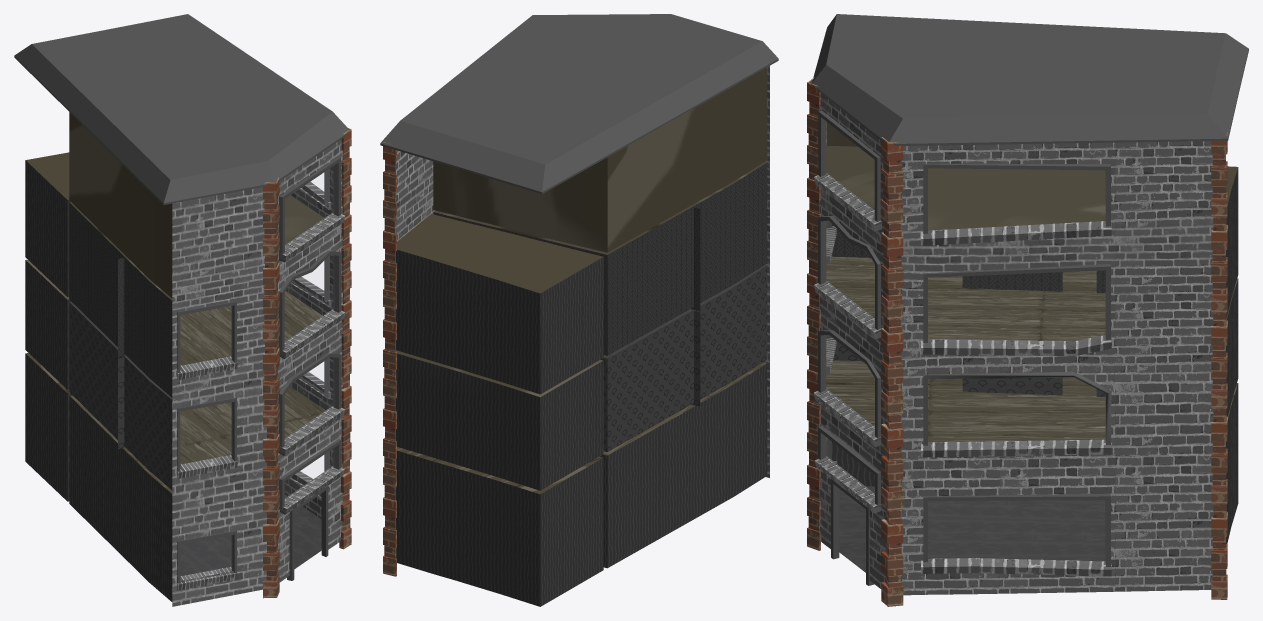
Rendered from Right Building.fbx.
3 views of the same model, side by side, from view 1: azimuth 30°, elevation 25°; view 2: azimuth 150°, elevation 25°; view 3: azimuth 270°, elevation 25° (orthographic). The views are drawn at different scales.
Visible parts, largest first — view 1: Right_Building_Front, Right_Floor_1, Right_Floor_3, Right_Floor_2, Right_Floor_4; view 2: Right_Building_Front, Right_Floor_3, Right_Floor_1, Right_Floor_2, Right_Floor_4; view 3: Right_Building_Front, Right_Floor_3, Right_Floor_2, Right_Floor_1, Right_Floor_4.
Part boxes in pixels (box(x1,y1,x2,y2)): Right_Building_Front: box(14, 14, 351, 606); Right_Floor_1: box(25, 353, 322, 601); Right_Floor_3: box(25, 152, 322, 397); Right_Floor_2: box(25, 259, 325, 490); Right_Floor_4: box(69, 112, 324, 300); Right_Building_Front: box(380, 14, 778, 576); Right_Floor_3: box(395, 162, 767, 394); Right_Floor_1: box(395, 362, 767, 606); Right_Floor_2: box(395, 264, 767, 490); Right_Floor_4: box(433, 67, 767, 252); Right_Building_Front: box(807, 14, 1248, 606); Right_Floor_3: box(826, 166, 1238, 364); Right_Floor_2: box(826, 278, 1238, 468); Right_Floor_1: box(832, 383, 1238, 593); Right_Floor_4: box(826, 122, 1105, 254).
Size of the model in its own units: 38.36 by 72.65 by 60.4.
